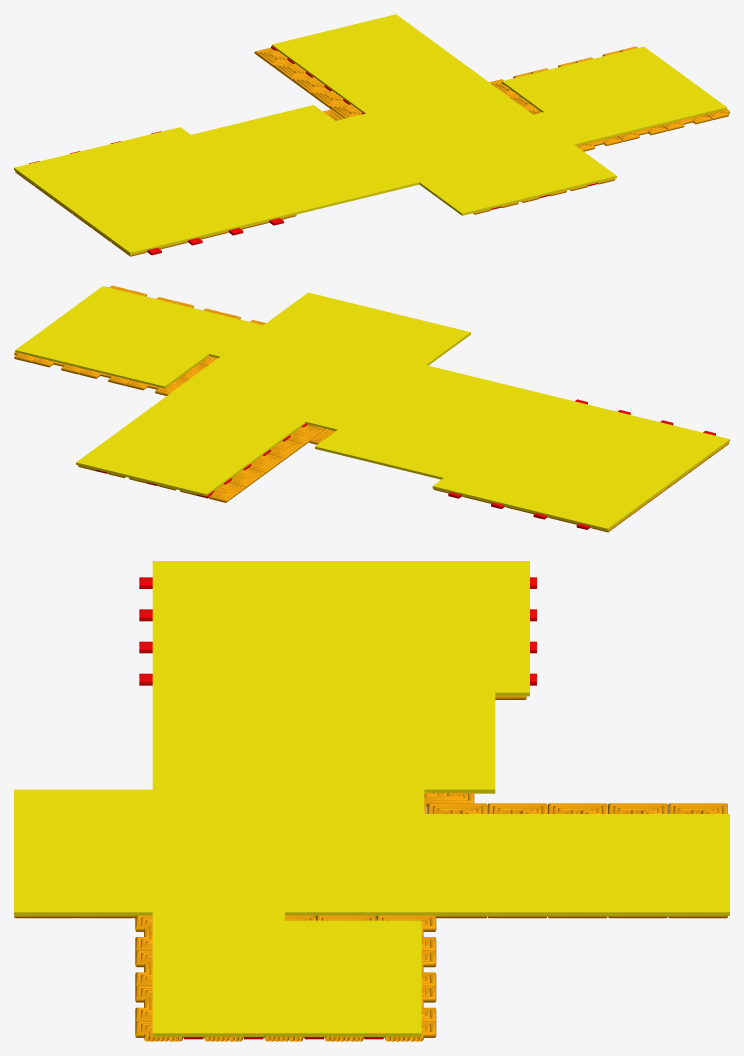
The model's file is ceiling 5th room.fbx.
3 renders of one model, top to bottom at view 1: azimuth 30°, elevation 25°; view 2: azimuth 150°, elevation 25°; view 3: azimuth 270°, elevation 25°, orthographic. The views are drawn at different scales.
Visible parts, largest first — view 1: Object001; view 2: Object001; view 3: Object001.
Part boxes in pixels (left/top/right/bottom): Object001: left=14, top=14, right=729, bottom=256; Object001: left=14, top=285, right=729, bottom=532; Object001: left=14, top=561, right=729, bottom=1041.
Bounding box in the file's own units: 36542 × 296 × 23396.
